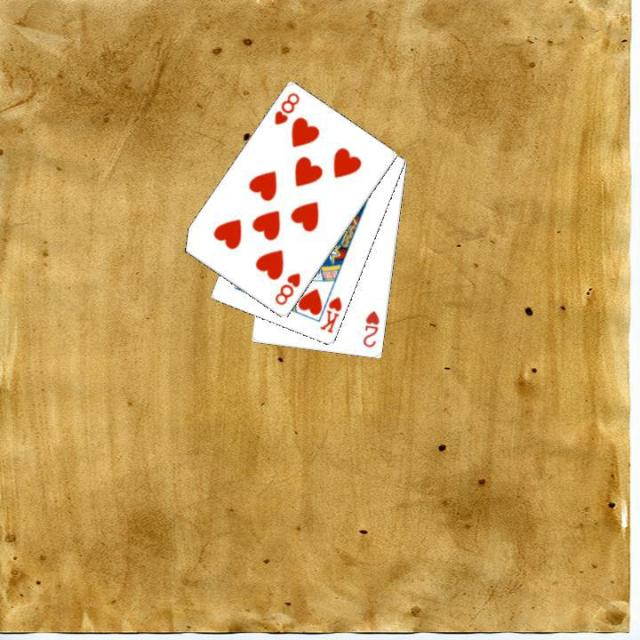2H: (359, 307, 381, 349)
8H: (270, 89, 302, 127), (271, 270, 302, 308)
KH: (316, 293, 344, 335)
